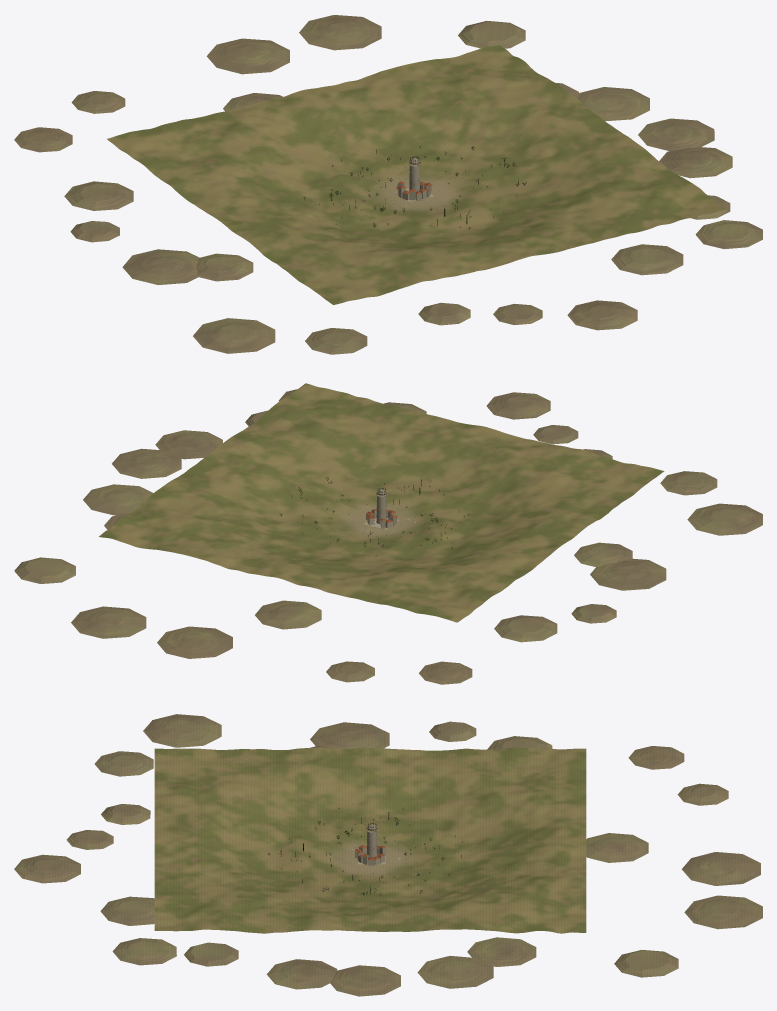
The model's file is galata-kulesi-baked.glb.
3 views of the same model, one above another, from view 1: azimuth 30°, elevation 25°; view 2: azimuth 150°, elevation 25°; view 3: azimuth 270°, elevation 25° (orthographic). The views are drawn at different scales.
Visible parts, largest first — view 1: galata-kulesi-terrain, galata-kulesi-ground, galata-kulesi-near; view 2: galata-kulesi-terrain, galata-kulesi-ground, galata-kulesi-near; view 3: galata-kulesi-terrain, galata-kulesi-ground, galata-kulesi-near.
Part boxes in pixels (x1,y1,x2,y2): galata-kulesi-terrain: [107, 45, 725, 304]; galata-kulesi-ground: [14, 15, 762, 354]; galata-kulesi-near: [32, 21, 747, 343]; galata-kulesi-terrain: [99, 383, 664, 622]; galata-kulesi-ground: [14, 389, 762, 684]; galata-kulesi-near: [24, 396, 740, 675]; galata-kulesi-terrain: [154, 747, 586, 933]; galata-kulesi-ground: [14, 714, 762, 996]; galata-kulesi-near: [35, 720, 737, 982].
Size of the model in its own units: 1067 by 66.07 by 1196.
23 materials, 17 textured.
